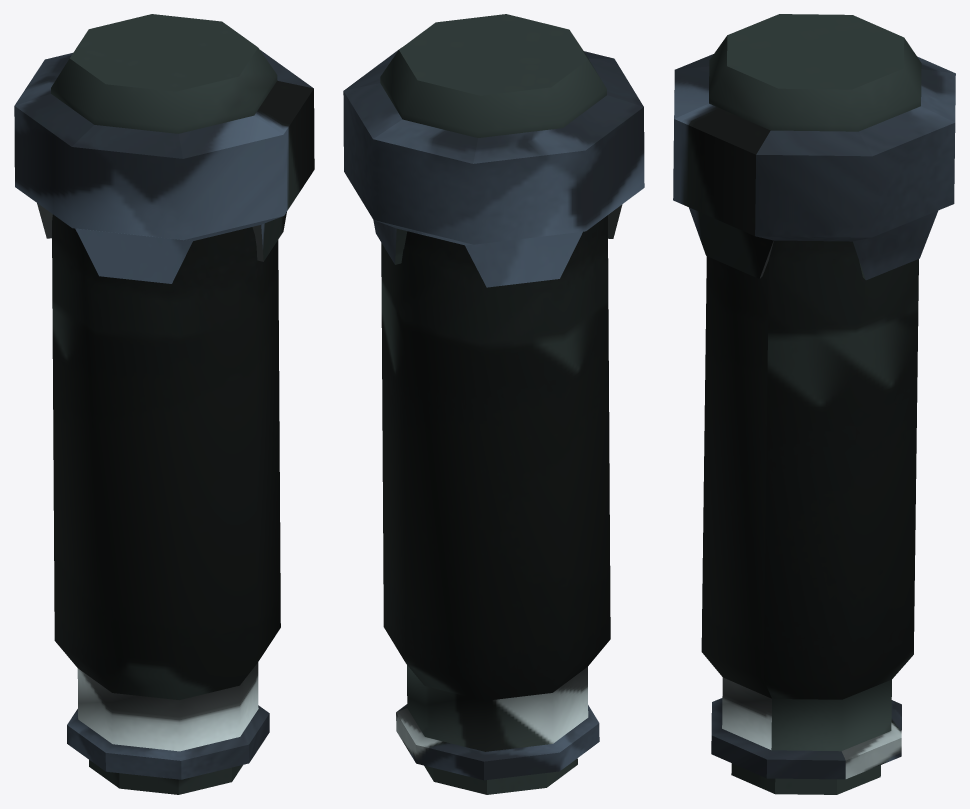
Rendered from RapidShoulderBullet.fbx.
The picture shows the model from 3 angles, left to right: view 1: azimuth 30°, elevation 25°; view 2: azimuth 150°, elevation 25°; view 3: azimuth 270°, elevation 25°; orthographic projection.
Parts seen in each view (by area): view 1: ShoulderBullet; view 2: ShoulderBullet; view 3: ShoulderBullet.
Boxes of the visible parts, x1,y1,x2,y2 form: ShoulderBullet: [14, 14, 314, 794]; ShoulderBullet: [343, 14, 644, 794]; ShoulderBullet: [673, 14, 955, 794].
Bounding box in the file's own units: 2.36 × 6.69 × 2.37.
